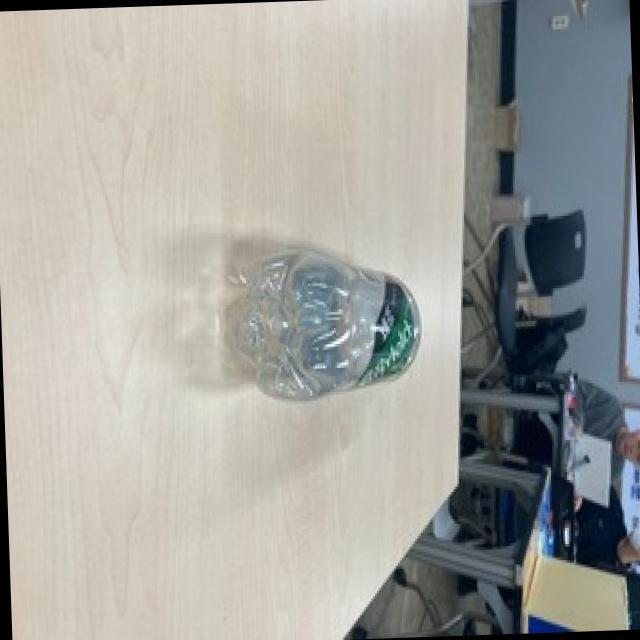good: (205, 238, 427, 407)
